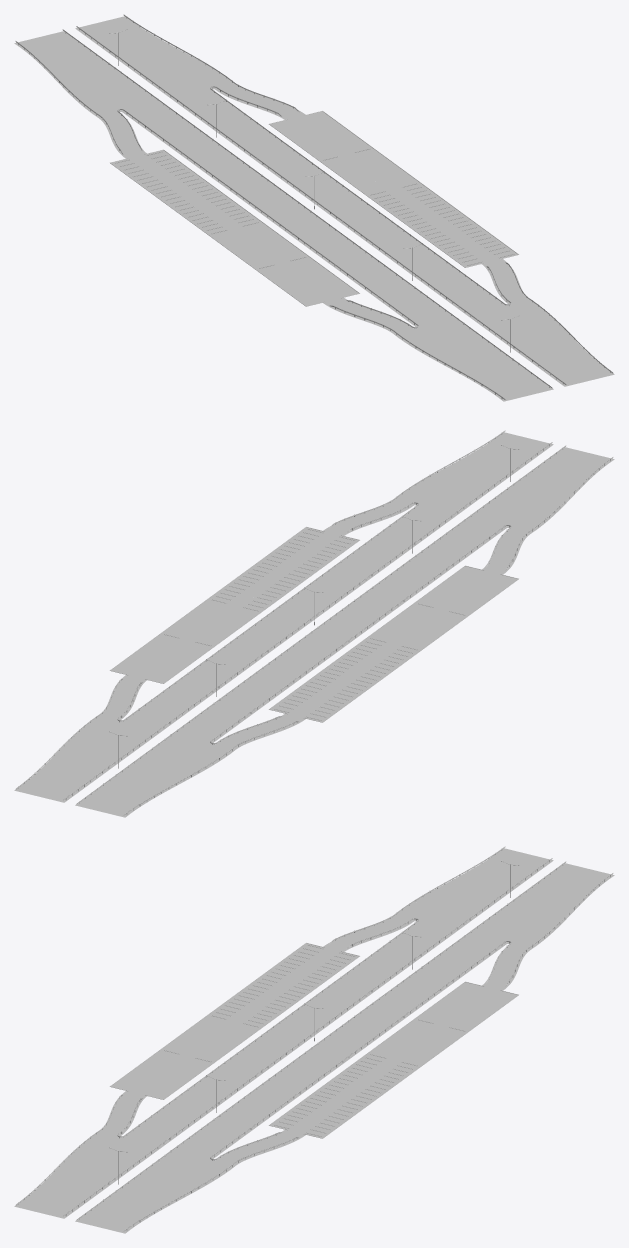
Rendered from Rest_Area.fbx.
The picture shows the model from 3 angles, top to bottom: view 1: azimuth 30°, elevation 25°; view 2: azimuth 150°, elevation 25°; view 3: azimuth 330°, elevation 25°; orthographic projection.
Parts seen in each view (by area): view 1: Rest_Area_Surface, Rest_Area_Pavement, Rest_Area_Edges, Rest_Area_Barriers, Rest_Area_Markings, Rest_Area_Curbs; view 2: Rest_Area_Surface, Rest_Area_Pavement, Rest_Area_Edges, Rest_Area_Barriers, Rest_Area_Markings, Rest_Area_Curbs; view 3: Rest_Area_Surface, Rest_Area_Pavement, Rest_Area_Edges, Rest_Area_Barriers, Rest_Area_Markings, Rest_Area_Curbs.
Boxes of the visible parts, <box> form: Rest_Area_Surface: <box>18,17,611,400</box>; Rest_Area_Pavement: <box>111,111,517,305</box>; Rest_Area_Edges: <box>14,16,614,401</box>; Rest_Area_Barriers: <box>15,14,613,399</box>; Rest_Area_Markings: <box>115,149,514,268</box>; Rest_Area_Curbs: <box>110,111,518,306</box>; Rest_Area_Surface: <box>17,433,610,816</box>; Rest_Area_Pavement: <box>111,527,517,721</box>; Rest_Area_Edges: <box>14,432,614,817</box>; Rest_Area_Barriers: <box>15,430,613,815</box>; Rest_Area_Markings: <box>164,529,465,720</box>; Rest_Area_Curbs: <box>110,527,518,722</box>; Rest_Area_Surface: <box>17,849,610,1232</box>; Rest_Area_Pavement: <box>111,943,517,1137</box>; Rest_Area_Edges: <box>14,848,614,1233</box>; Rest_Area_Barriers: <box>15,846,613,1231</box>; Rest_Area_Markings: <box>164,945,465,1136</box>; Rest_Area_Curbs: <box>110,943,518,1138</box>.
Bounding box in the file's own units: 8040 × 32000 × 1271.
